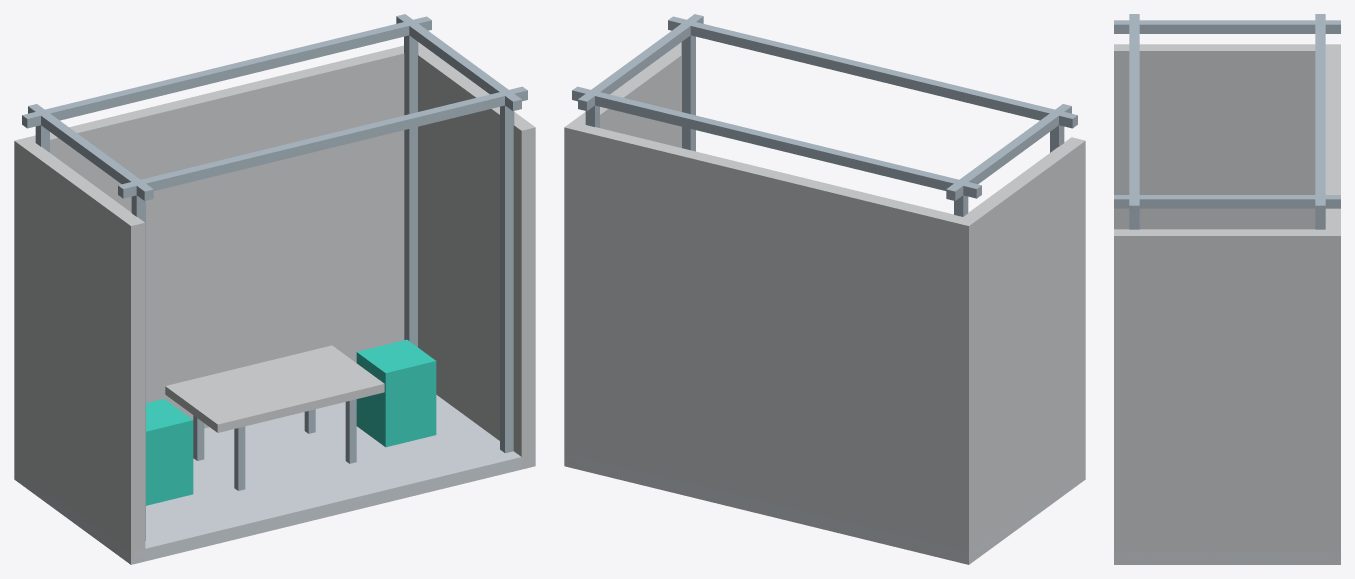
3 renders of one model, left to right at view 1: azimuth 30°, elevation 25°; view 2: azimuth 150°, elevation 25°; view 3: azimuth 270°, elevation 25°, orthographic. The views are drawn at different scales.
Parts seen in each view (by area): view 1: Exhibition Booth Concept; view 2: Exhibition Booth Concept; view 3: Exhibition Booth Concept.
Boxes of the visible parts, left/top/right/bottom form: Exhibition Booth Concept: left=14, top=14, right=535, bottom=564; Exhibition Booth Concept: left=564, top=14, right=1085, bottom=564; Exhibition Booth Concept: left=1114, top=14, right=1340, bottom=564.
Size of the model in its own units: 4 by 3.49 by 2.
